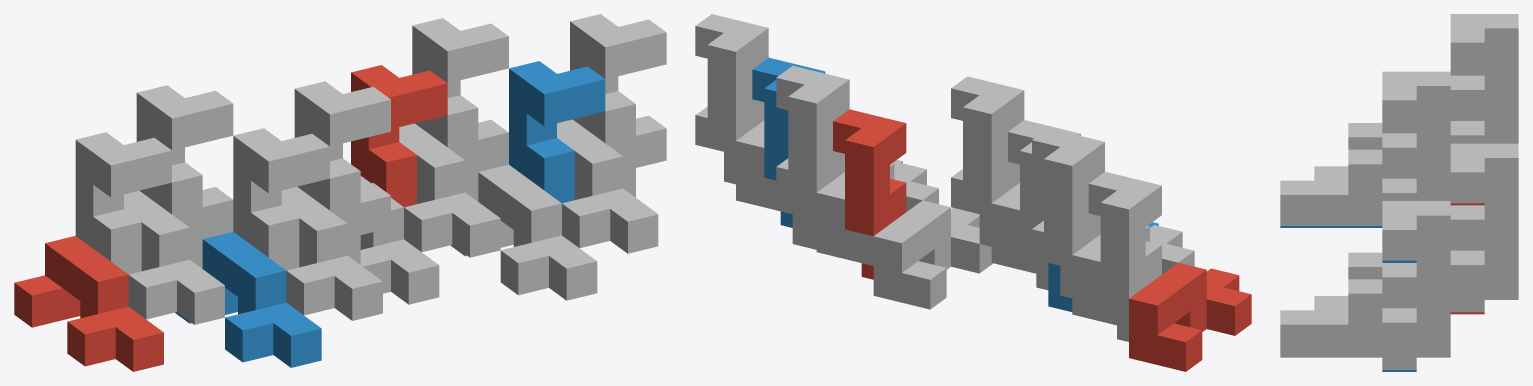
The model's file is tiling.obj.
The picture shows the model from 3 angles, left to right: view 1: azimuth 30°, elevation 25°; view 2: azimuth 150°, elevation 25°; view 3: azimuth 270°, elevation 25°; orthographic projection. The views are drawn at different scales.
Parts seen in each view (by area): view 1: copy_1_domain_1, copy_1_domain_6, copy_1_domain_2, copy_2_domain_3, copy_2_domain_7, copy_2_domain_4, copy_2_domain_8, copy_2_domain_2, copy_2_domain_1, copy_2_domain_6, copy_1_domain_8, copy_1_domain_4 (+4 smaller); view 2: copy_1_domain_1, copy_1_domain_5, copy_2_domain_8, copy_2_domain_7, copy_2_domain_4, copy_2_domain_3, copy_2_domain_1, copy_2_domain_5, copy_1_domain_7, copy_1_domain_3, copy_2_domain_6, copy_2_domain_2 (+4 smaller); view 3: copy_2_domain_7, copy_2_domain_8, copy_2_domain_4, copy_2_domain_3, copy_1_domain_8, copy_1_domain_4, copy_1_domain_7, copy_1_domain_3, copy_1_domain_6, copy_2_domain_5.
Part boxes in pixels (<box>): copy_1_domain_1: <box>14,236,163,371</box>; copy_1_domain_6: <box>450,164,597,300</box>; copy_1_domain_2: <box>175,232,321,367</box>; copy_2_domain_3: <box>136,85,233,268</box>; copy_2_domain_7: <box>412,18,508,201</box>; copy_2_domain_4: <box>294,81,390,264</box>; copy_2_domain_8: <box>570,14,666,197</box>; copy_2_domain_2: <box>233,128,329,270</box>; copy_2_domain_1: <box>75,132,171,274</box>; copy_2_domain_6: <box>509,61,605,203</box>; copy_1_domain_8: <box>557,119,658,253</box>; copy_1_domain_4: <box>281,186,382,320</box>; copy_1_domain_1: <box>1129,262,1251,371</box>; copy_1_domain_5: <box>873,200,992,309</box>; copy_2_domain_8: <box>695,14,768,184</box>; copy_2_domain_7: <box>776,66,849,235</box>; copy_2_domain_4: <box>951,76,1024,246</box>; copy_2_domain_3: <box>1032,128,1104,298</box>; copy_2_domain_1: <box>1088,171,1161,341</box>; copy_2_domain_5: <box>833,109,906,279</box>; copy_1_domain_7: <box>816,162,938,265</box>; copy_1_domain_3: <box>1072,225,1194,328</box>; copy_2_domain_6: <box>752,57,825,227</box>; copy_2_domain_2: <box>1008,120,1080,290</box>; copy_2_domain_7: <box>1450,143,1518,312</box>; copy_2_domain_8: <box>1382,201,1450,369</box>; copy_2_domain_4: <box>1382,71,1450,200</box>; copy_2_domain_3: <box>1450,14,1518,143</box>; copy_1_domain_8: <box>1280,279,1450,355</box>; copy_1_domain_4: <box>1280,149,1450,225</box>; copy_1_domain_7: <box>1348,250,1518,297</box>; copy_1_domain_3: <box>1348,121,1518,149</box>; copy_1_domain_6: <box>1280,355,1450,357</box>; copy_2_domain_5: <box>1450,203,1484,314</box>.
Size of the model in its own units: 19 by 6 by 7.
